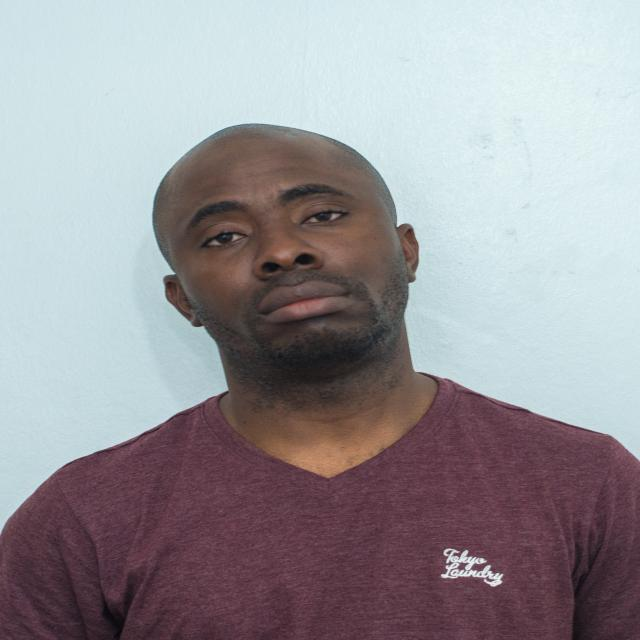sad: (138, 113, 429, 377)
